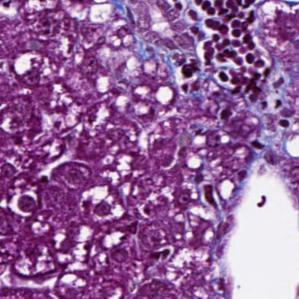inflammation: (164, 48, 207, 90)
